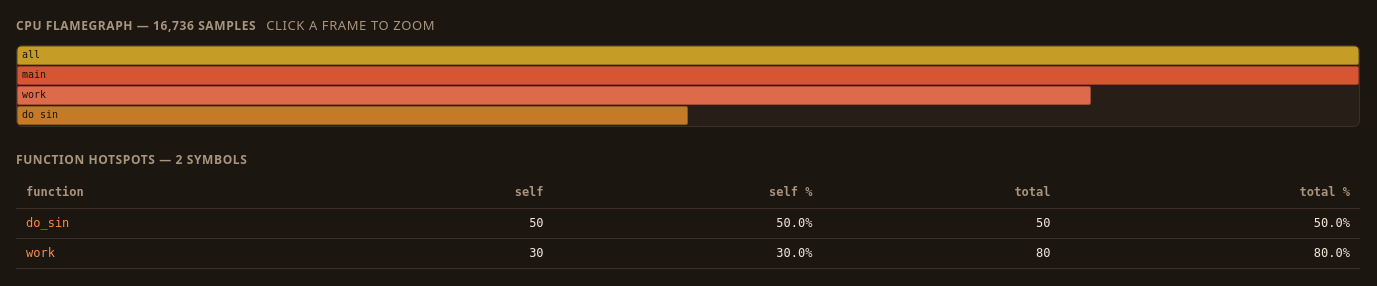
Scenario: FlamegraphTab › renders frames + the symbol hotspot table, and zooms
Expected: the heading "16,736 samples" is shown, [16, 17, 256, 34]
Note: clicking a frame reveals the reset-zoom control
Click the text "work" at (34, 95), box [22, 89, 46, 100]
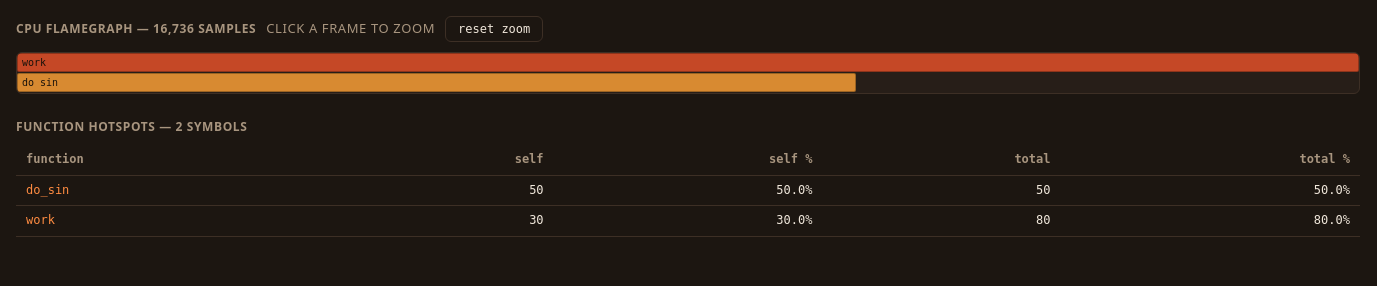
Expected: the button "reset zoom" is shown, [445, 16, 543, 42]
